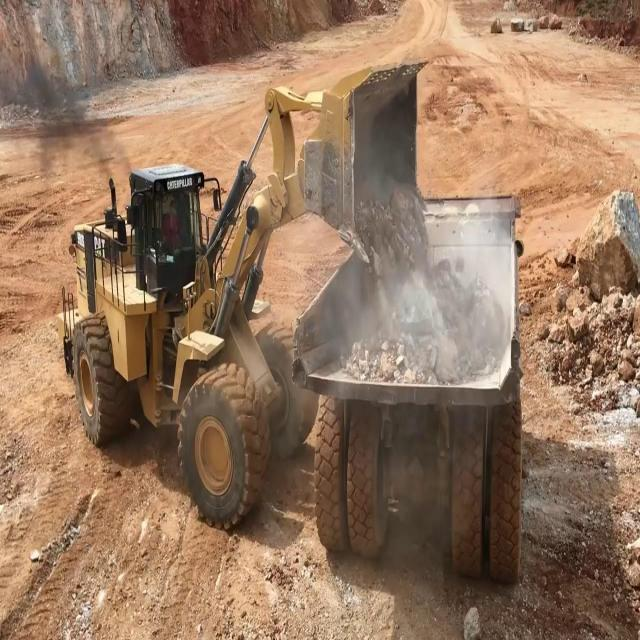Dump Truck: (292, 193, 524, 583)
Loader: (57, 58, 430, 530)
